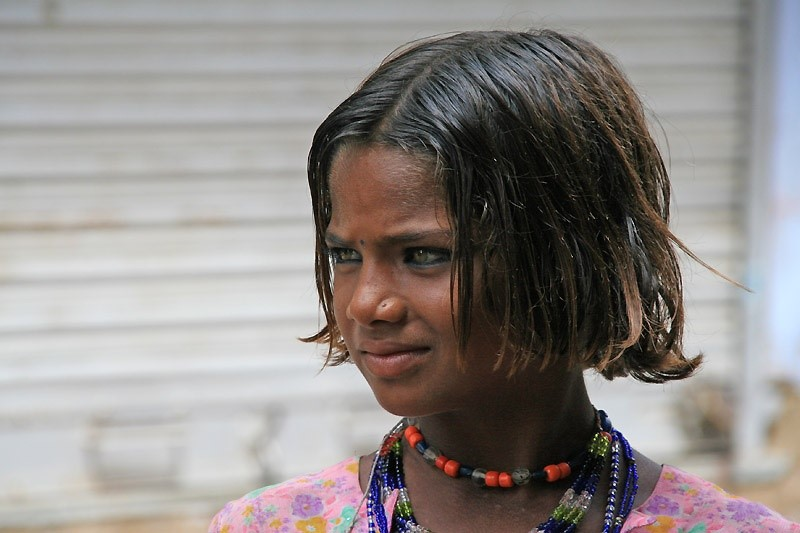face_no_mask: (309, 32, 665, 419)
